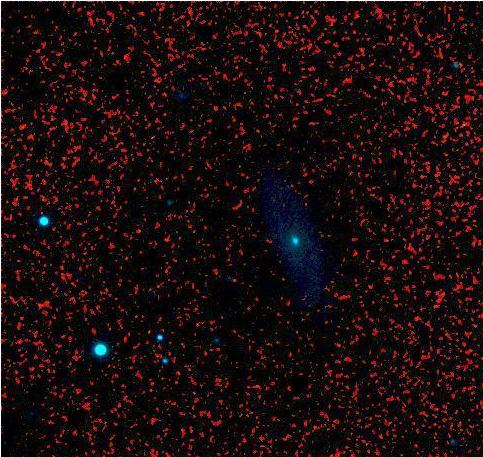star: (454, 114, 483, 144)
